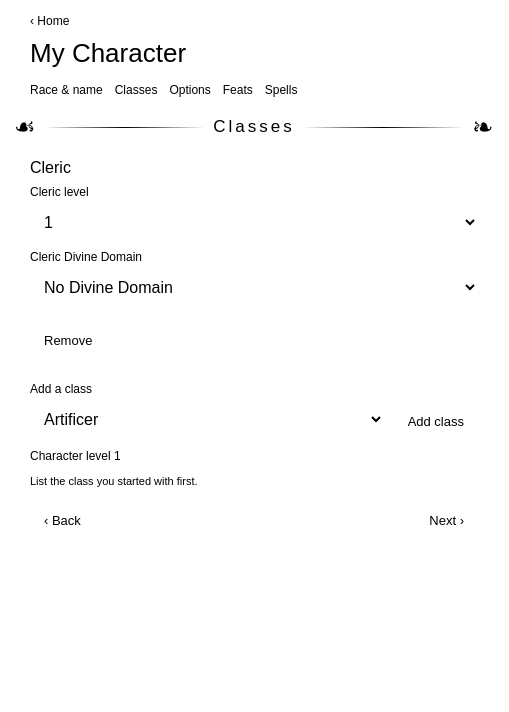
Scenario: classes: add, level, subclass, remove prunes spells
The image size is (509, 712).
Select "Wizard" in the dropdown labelled "Add a class" at (207, 420), box [30, 400, 384, 439]
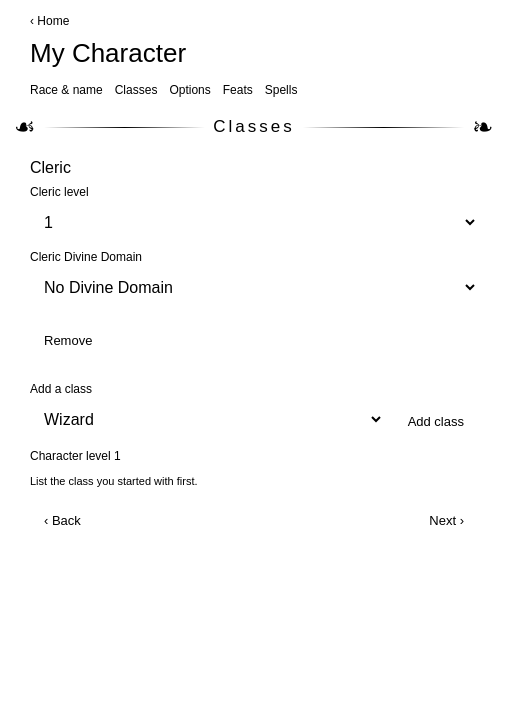
Click the button "Add class" at (436, 422), box [394, 404, 478, 439]
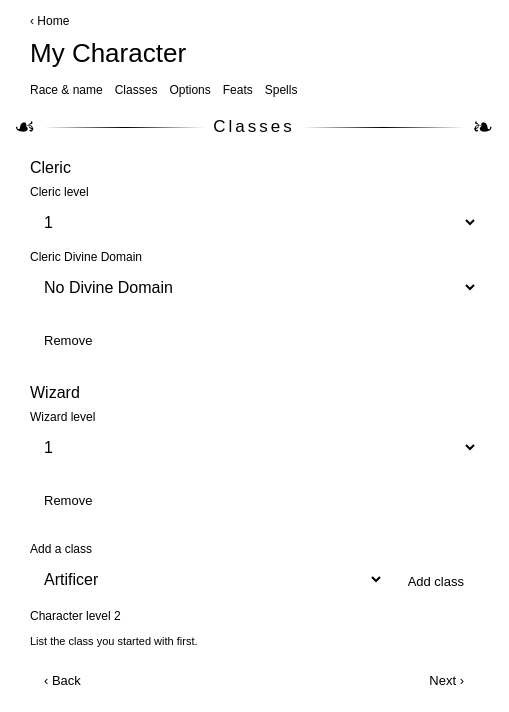
Select "2" in the dropdown labelled "Wizard level" at (254, 448), box [30, 428, 478, 467]
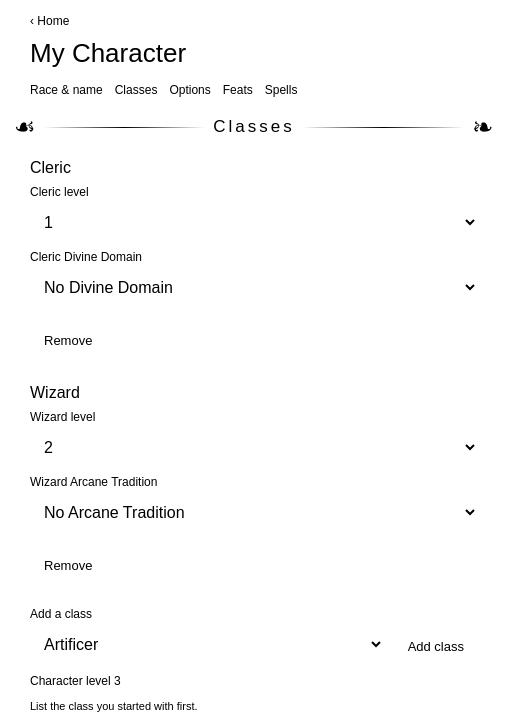
Select "School of Evocation" in the dropdown labelled "Wizard Arcane Tradition" at (254, 512), box [30, 493, 478, 532]
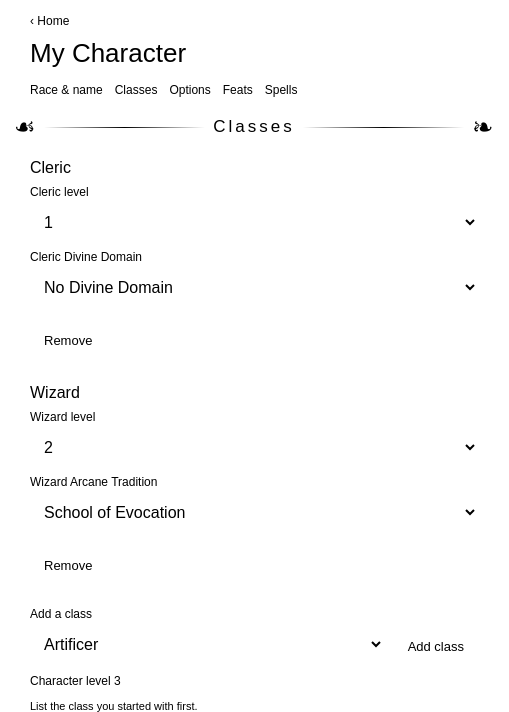
Click the button "Remove" below "Divine Domain" at (68, 340), box [30, 323, 106, 358]
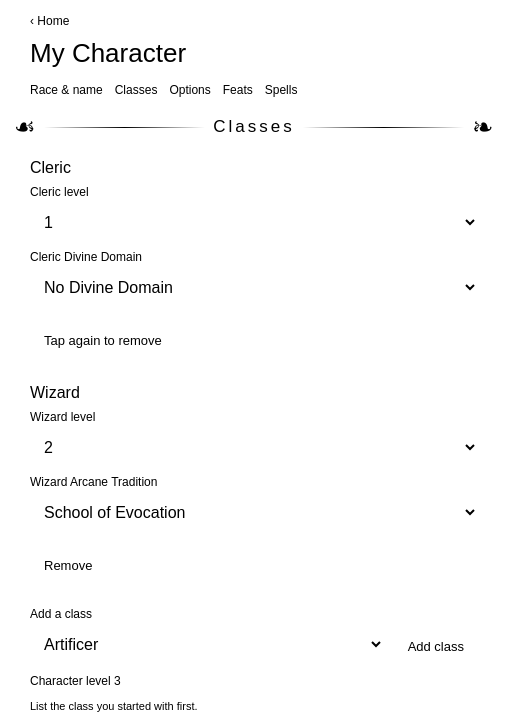
Click the button "Tap again to remove" at (103, 340), box [30, 323, 176, 358]
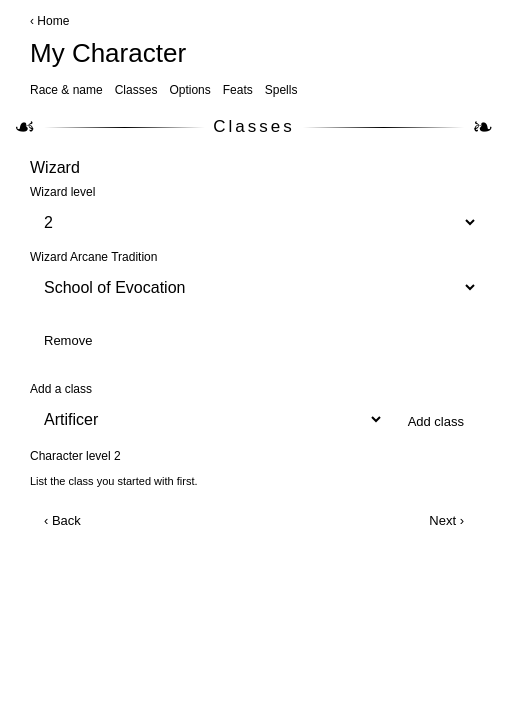
Expected: the text "Character level 2" is shown, [30, 449, 121, 463]
